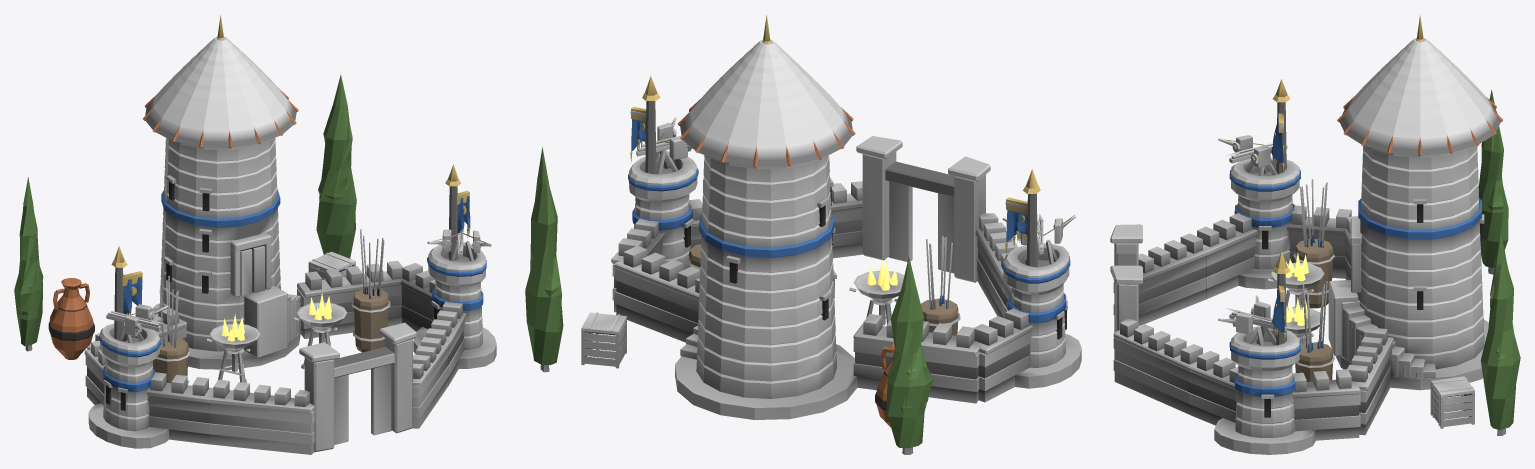
The model's file is defense-tower-l2.glb.
The picture shows the model from 3 angles, left to right: view 1: azimuth 30°, elevation 25°; view 2: azimuth 150°, elevation 25°; view 3: azimuth 270°, elevation 25°; orthographic projection. The views are drawn at different scales.
Visible parts, largest first — view 1: defense-tower-l2; view 2: defense-tower-l2; view 3: defense-tower-l2.
Part boxes in pixels (bbox=[...]): defense-tower-l2: bbox=[14, 15, 496, 454]; defense-tower-l2: bbox=[525, 15, 1081, 454]; defense-tower-l2: bbox=[1110, 14, 1520, 454].
Size of the model in its own units: 1.58 by 1.24 by 1.36.
